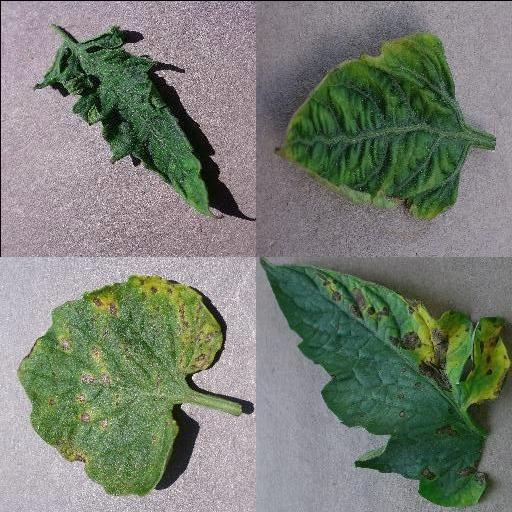Early Blight: (260, 256, 512, 505)
Mosaic Virus: (32, 23, 222, 221)
Septoria: (17, 274, 225, 493)
Yellow Leaf Curl Virus: (273, 31, 467, 219)
